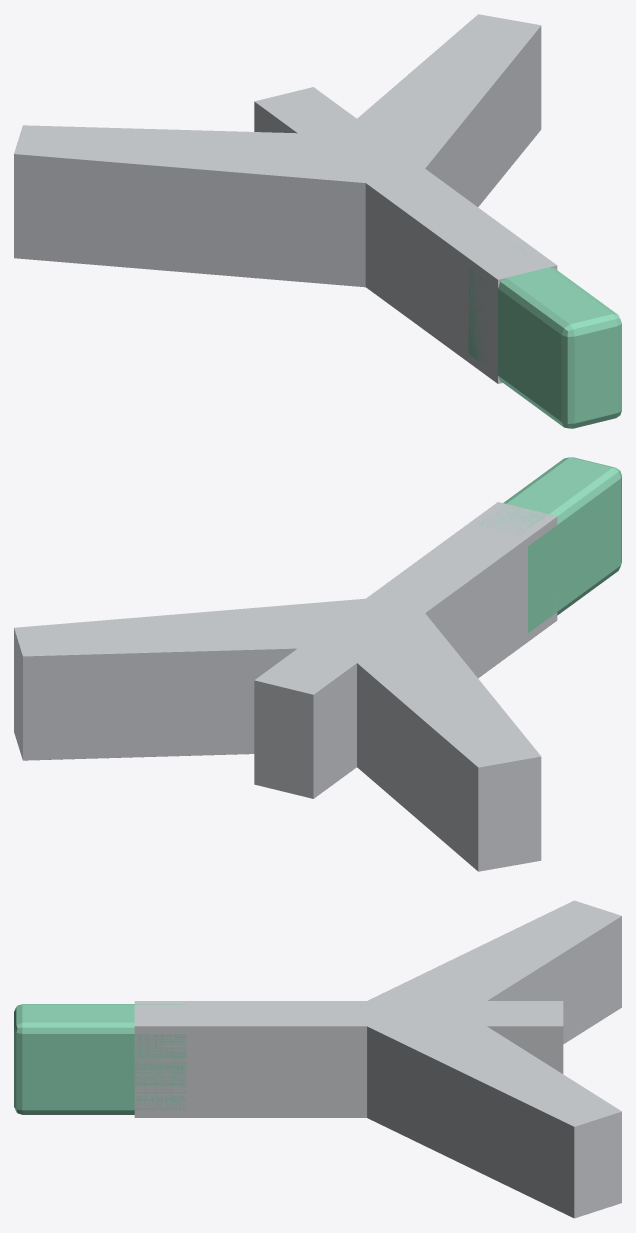
Rendered from psi.glb.
The picture shows the model from 3 angles, top to bottom: view 1: azimuth 30°, elevation 25°; view 2: azimuth 150°, elevation 25°; view 3: azimuth 270°, elevation 25°; orthographic projection. The views are drawn at different scales.
Visible parts, largest first — view 1: psi-mark; view 2: psi-mark; view 3: psi-mark.
Part boxes in pixels (box(x1,y1,x2,y2)): psi-mark: box(14, 14, 621, 428); psi-mark: box(14, 457, 621, 871); psi-mark: box(14, 900, 621, 1218).
Size of the model in its own units: 0.6348 by 0.12 by 0.7205.
